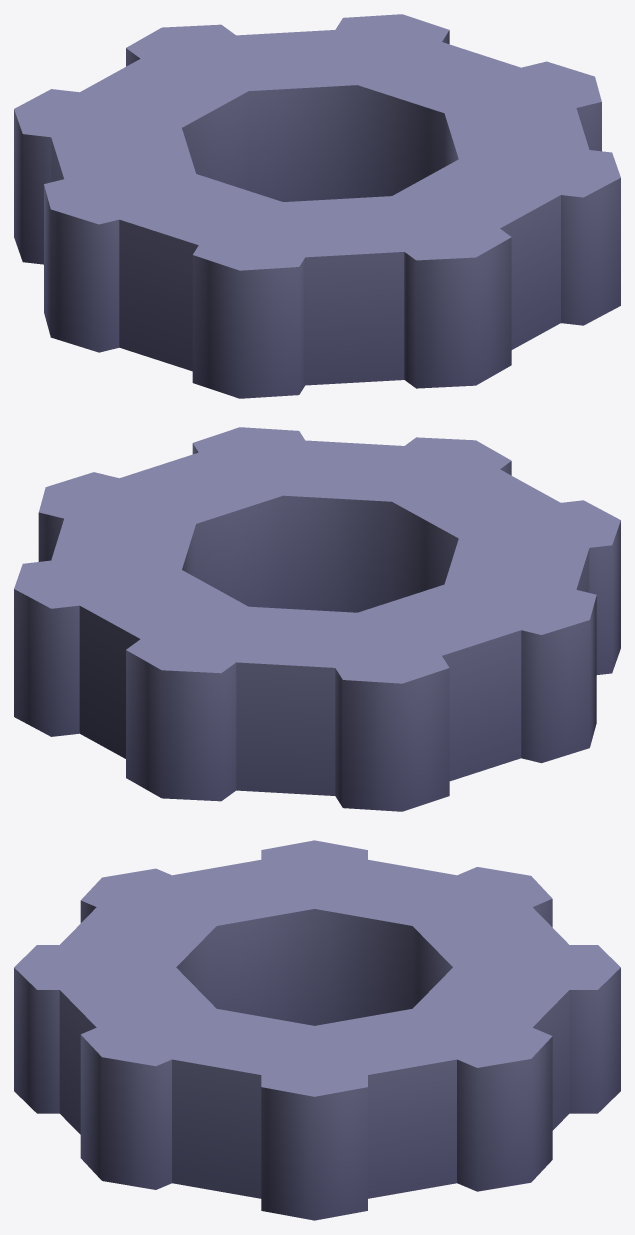
Rendered from cog-b.glb.
3 views of the same model, one above another, from view 1: azimuth 30°, elevation 25°; view 2: azimuth 150°, elevation 25°; view 3: azimuth 270°, elevation 25° (orthographic). The views are drawn at different scales.
Parts seen in each view (by area): view 1: cog-b; view 2: cog-b; view 3: cog-b.
Boxes of the visible parts, box(x1,y1,x2,y2) form: cog-b: box(14, 14, 620, 398); cog-b: box(14, 427, 620, 811); cog-b: box(14, 840, 620, 1220).
Bounding box in the file's own units: 1 × 0.225 × 1.
Materials: 1 (1 with a texture image).
